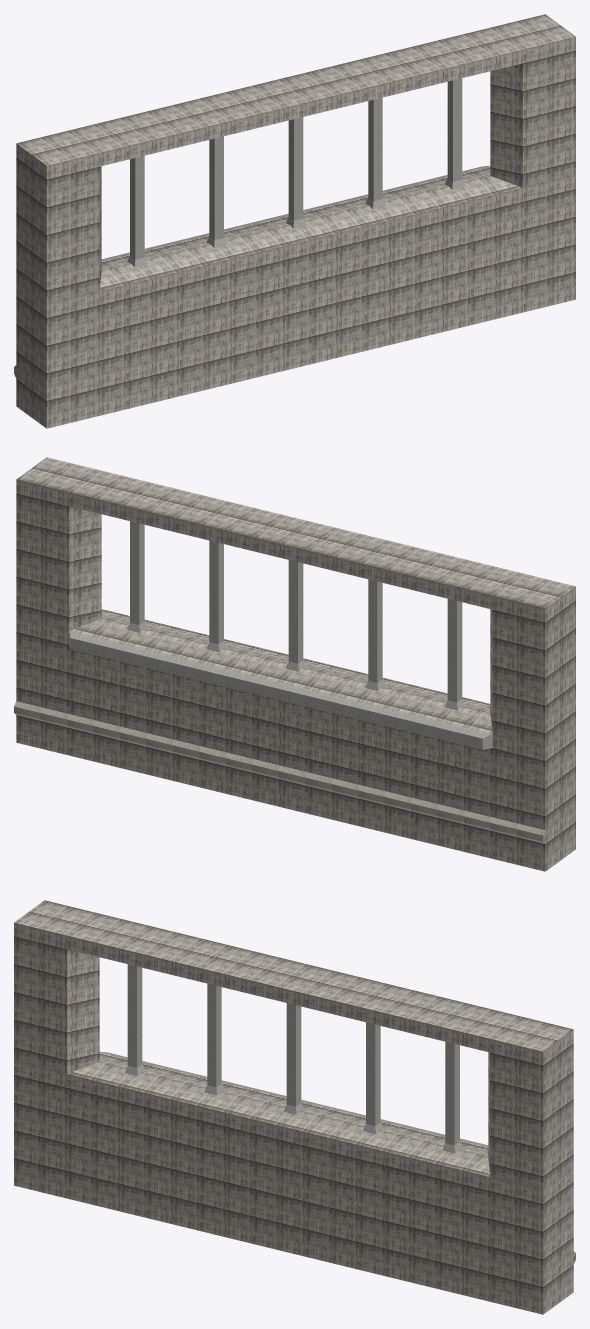
3 views of the same model, one above another, from view 1: azimuth 30°, elevation 25°; view 2: azimuth 150°, elevation 25°; view 3: azimuth 330°, elevation 25° (orthographic).
Parts seen in each view (by area): view 1: TexturesCom_ConcreteLeaking0255_1_M, TexturesCom_MetalScratches0021_M; view 2: TexturesCom_ConcreteLeaking0255_1_M, TexturesCom_MetalScratches0021_M, TexturesCom_BrickMessy0175_2_M; view 3: TexturesCom_ConcreteLeaking0255_1_M, TexturesCom_MetalScratches0021_M.
Part boxes in pixels (x1,y1,x2,y2): TexturesCom_ConcreteLeaking0255_1_M: (14, 14, 575, 428); TexturesCom_MetalScratches0021_M: (101, 78, 489, 267); TexturesCom_ConcreteLeaking0255_1_M: (16, 457, 575, 871); TexturesCom_MetalScratches0021_M: (69, 521, 492, 749); TexturesCom_BrickMessy0175_2_M: (14, 701, 545, 843); TexturesCom_ConcreteLeaking0255_1_M: (14, 900, 575, 1314); TexturesCom_MetalScratches0021_M: (100, 964, 488, 1153).
Bounding box in the file's own units: 20 × 9.5 × 2.28.
3 materials, 3 textured.
